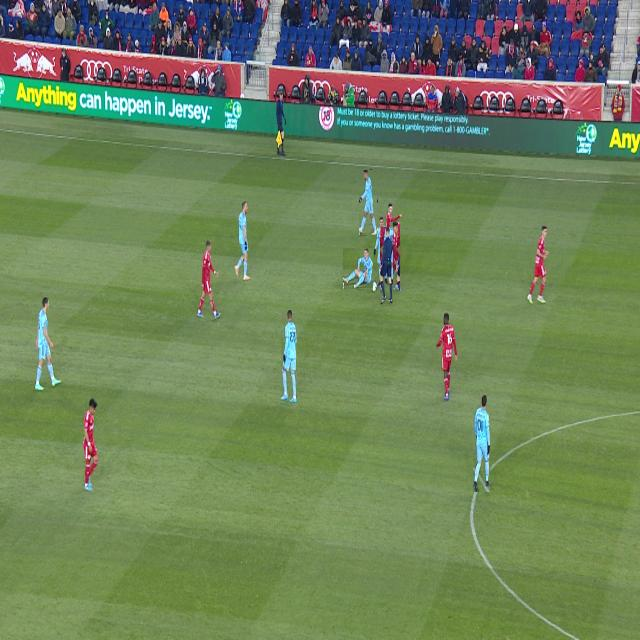football: (372, 282, 377, 292)
player: (35, 298, 61, 390), (197, 240, 221, 319), (436, 313, 457, 400), (528, 227, 549, 304), (474, 396, 490, 492), (281, 310, 297, 403), (84, 398, 98, 491), (343, 249, 373, 289), (235, 201, 250, 280), (360, 170, 377, 235), (374, 217, 389, 286), (386, 204, 401, 253), (390, 222, 400, 291)
referee: (380, 228, 393, 303)
